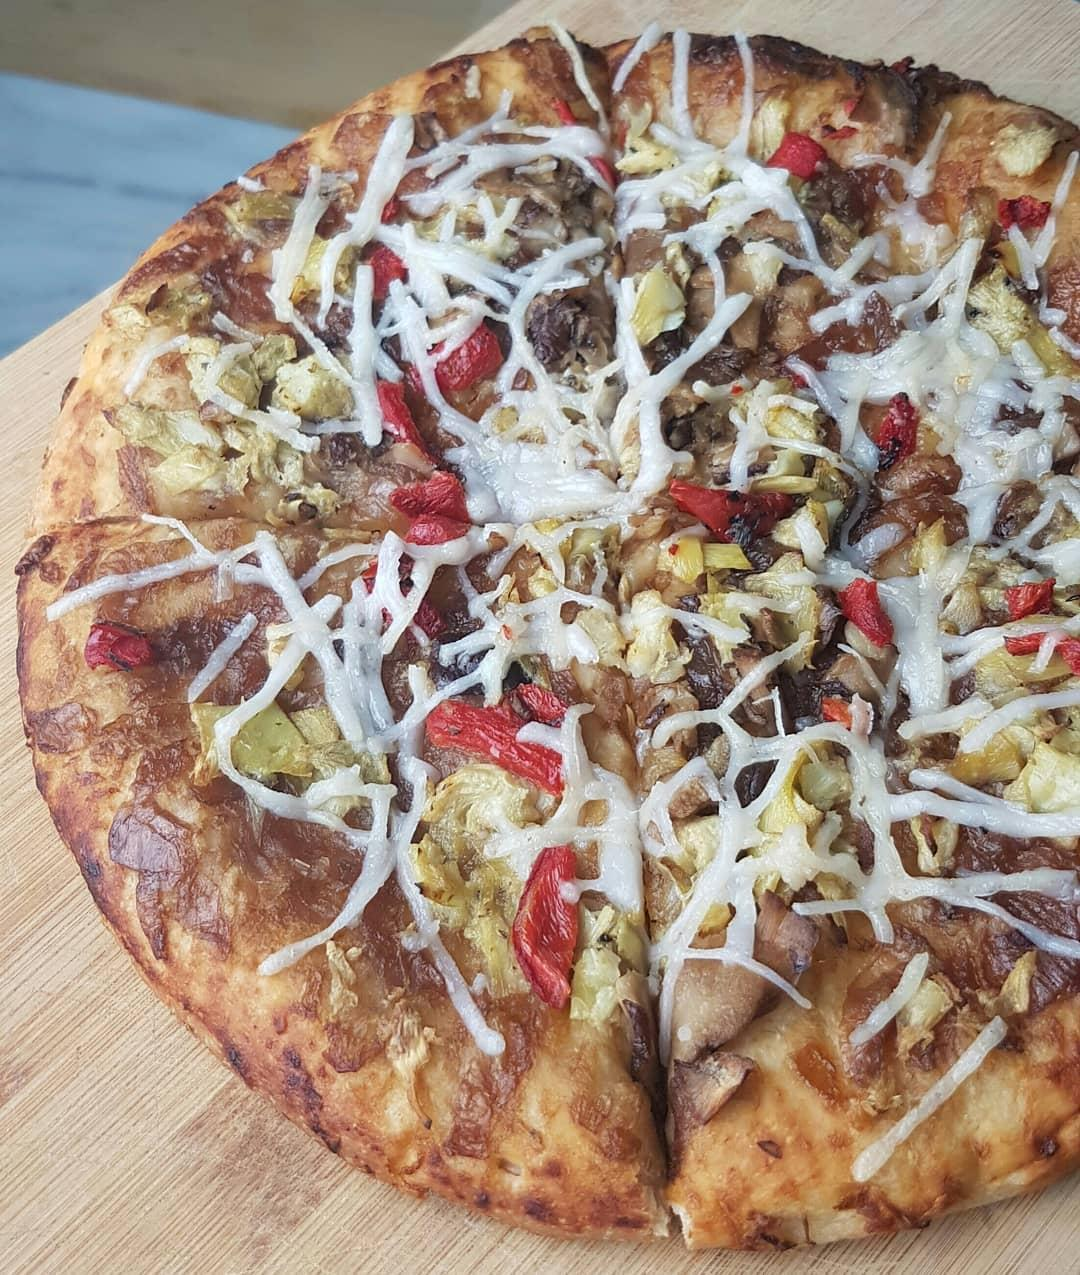Mushroom: (616, 884, 825, 1136), (936, 829, 1080, 1024), (662, 590, 790, 804), (657, 251, 817, 390), (786, 647, 887, 737), (523, 281, 595, 380), (663, 385, 748, 453)
Peppers: (421, 680, 567, 798), (508, 836, 584, 1016), (658, 471, 799, 546), (414, 306, 504, 397), (360, 370, 439, 469), (354, 182, 416, 304), (549, 90, 621, 192), (390, 466, 477, 551), (834, 569, 898, 655), (76, 613, 154, 673), (1000, 626, 1080, 681), (862, 386, 918, 460), (762, 123, 828, 179), (999, 576, 1063, 626), (992, 192, 1055, 232)
Pizza: (10, 26, 1080, 1242)
